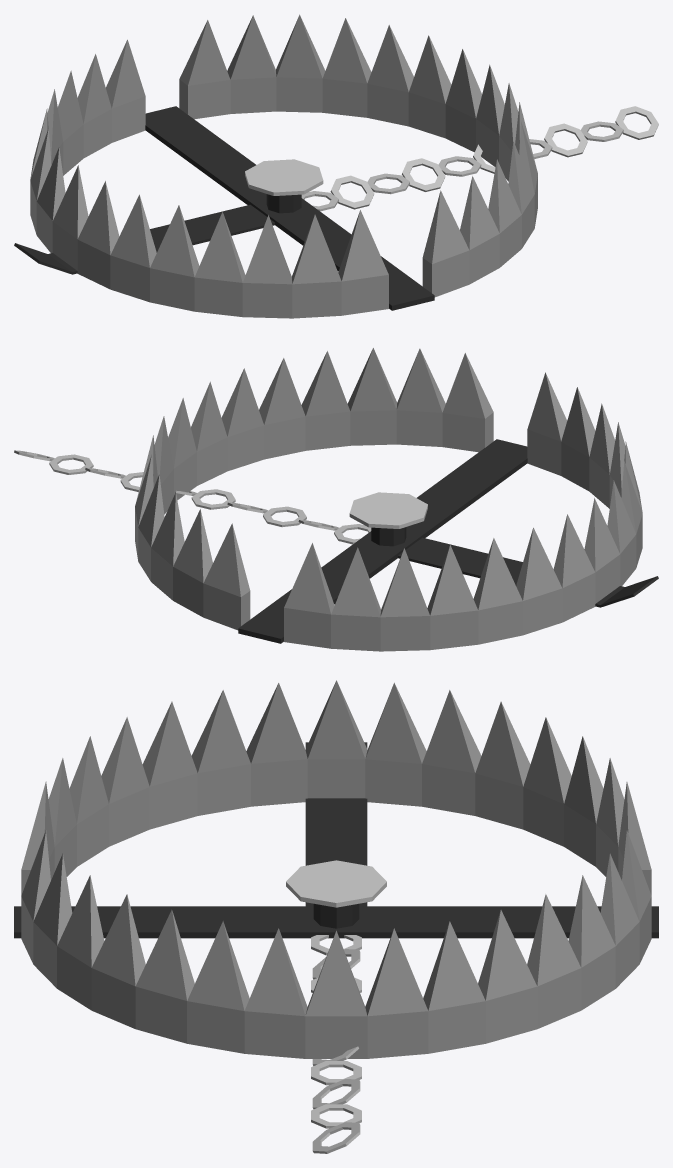
File: Trap.fbx
The picture shows the model from 3 angles, top to bottom: view 1: azimuth 30°, elevation 25°; view 2: azimuth 150°, elevation 25°; view 3: azimuth 270°, elevation 25°; orthographic projection. The views are drawn at different scales.
Parts seen in each view (by area): view 1: Trap; view 2: Trap; view 3: Trap.
Part boxes in pixels (box(x1,y1,x2,y2)): Trap: box(14, 14, 658, 318); Trap: box(14, 348, 658, 651); Trap: box(14, 680, 658, 1153).
Size of the model in its own units: 163 by 25.51 by 116.
